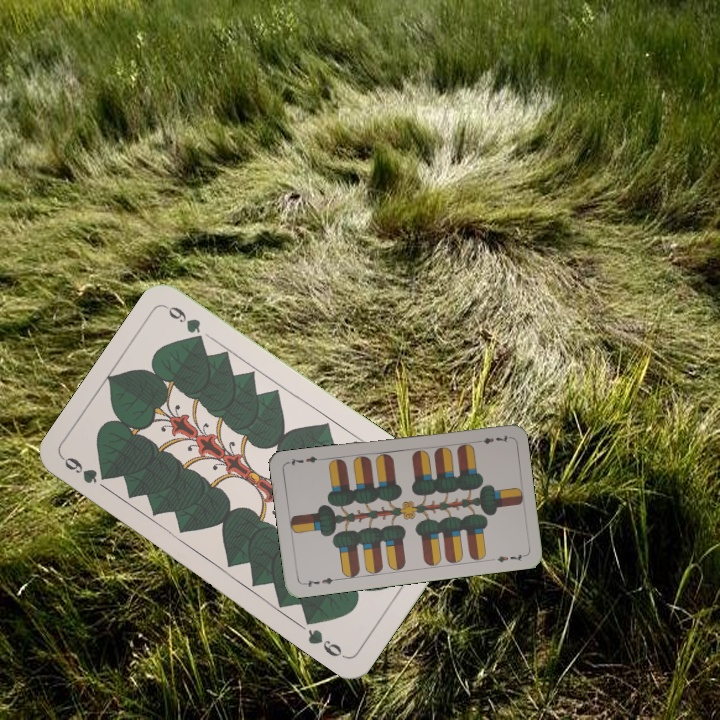E7: (299, 574, 339, 589), (471, 431, 511, 446)
G9: (59, 452, 110, 487)
